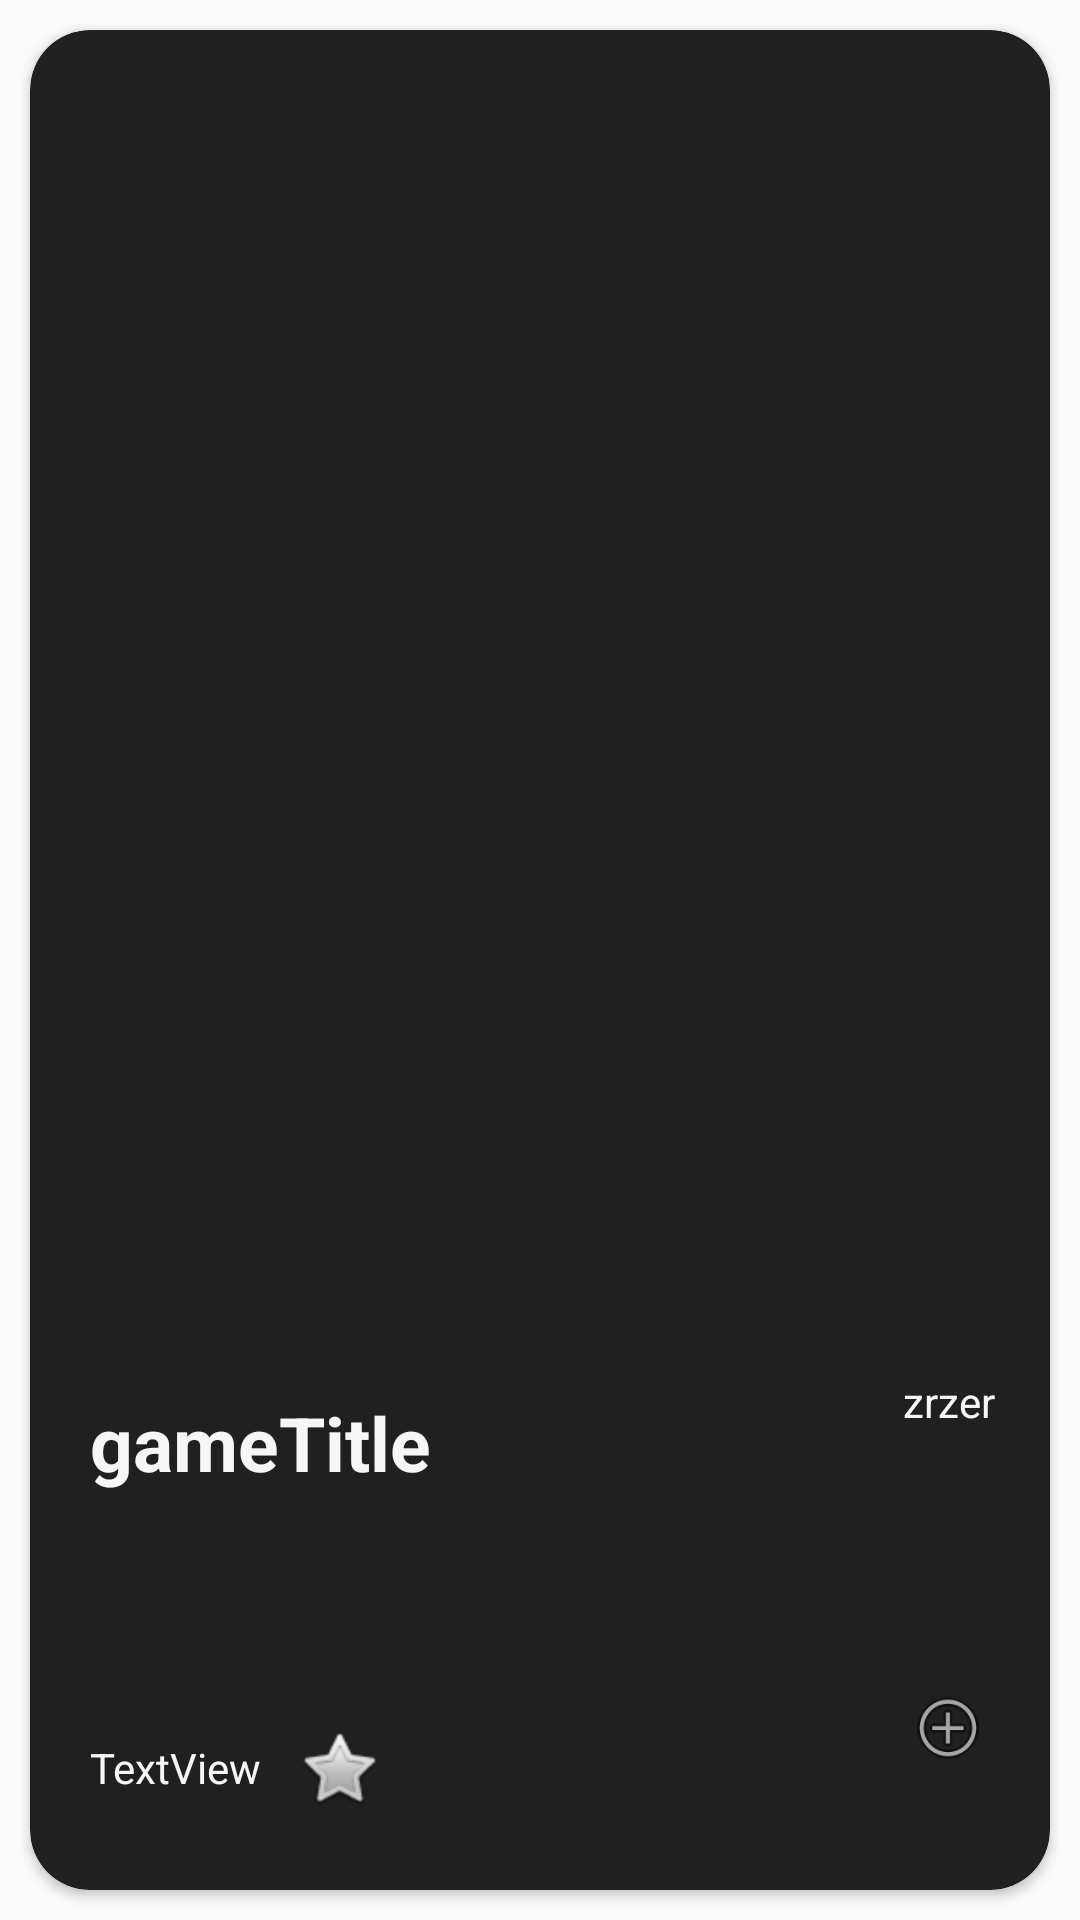

Icon click points for this 1080×1920 phone screenshot, format (x=x, y=y):
add: (x=948, y=1728)
star: (x=340, y=1768)
